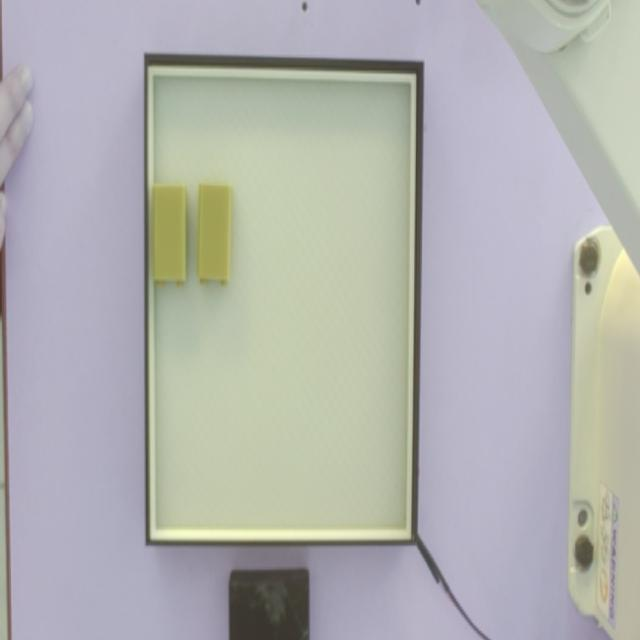bateria: (152, 183, 185, 287), (198, 186, 231, 290)
mesa: (144, 53, 424, 547)
